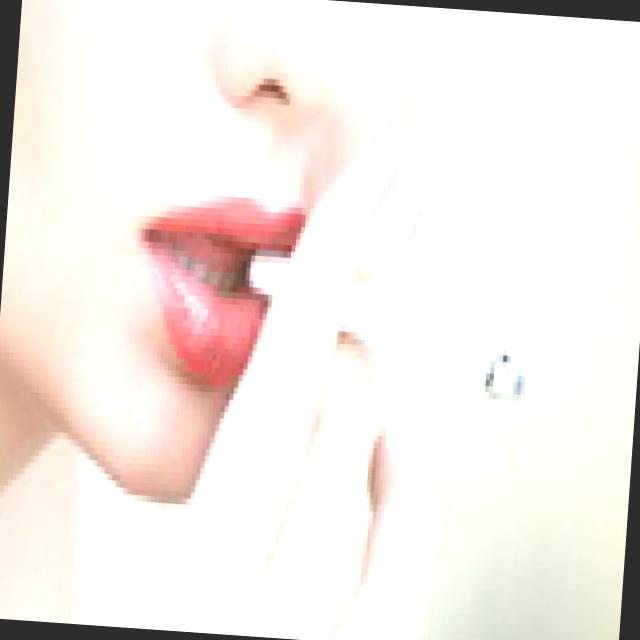cigarette: (226, 229, 550, 429)
